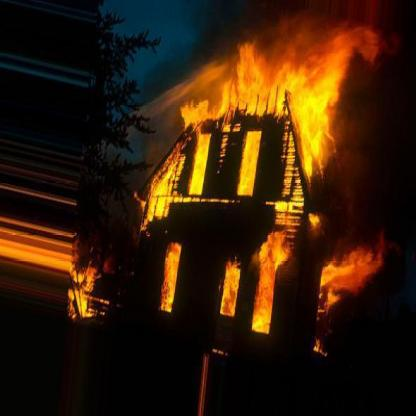fire: (141, 9, 387, 359), (72, 231, 107, 330)
